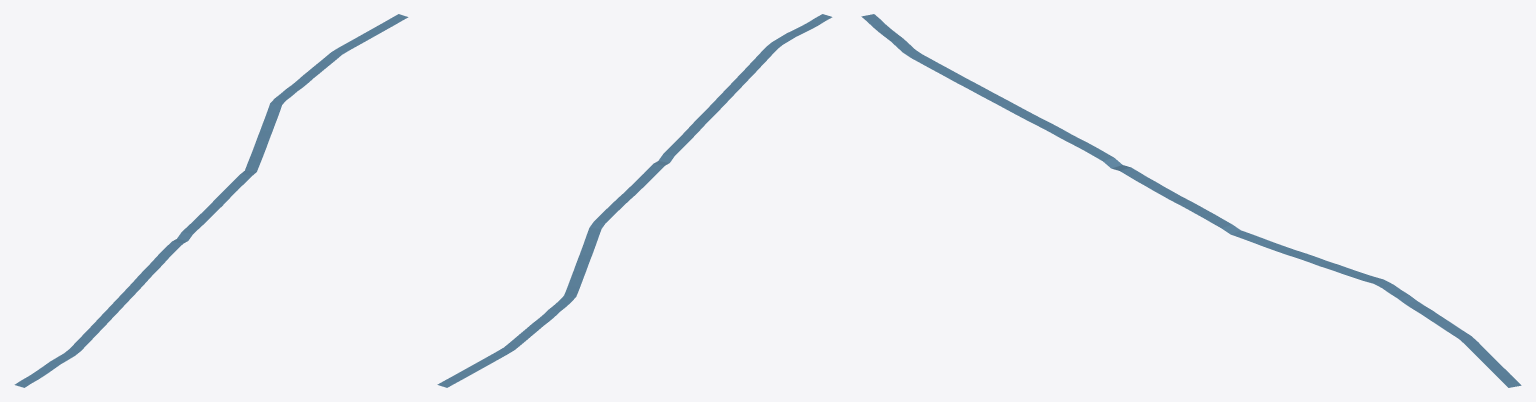
Rendered from c_1628_17828_water.glb.
3 views of the same model, side by side, from view 1: azimuth 30°, elevation 25°; view 2: azimuth 210°, elevation 25°; view 3: azimuth 270°, elevation 25° (orthographic). The views are drawn at different scales.
Parts seen in each view (by area): view 1: geometry_0; view 2: geometry_0; view 3: geometry_0.
Boxes of the visible parts, left/top/right/bottom form: geometry_0: left=14, top=14, right=408, bottom=387; geometry_0: left=437, top=14, right=832, bottom=387; geometry_0: left=861, top=14, right=1521, bottom=387.
Bounding box in the file's own units: 372 × 1.47 × 277.
